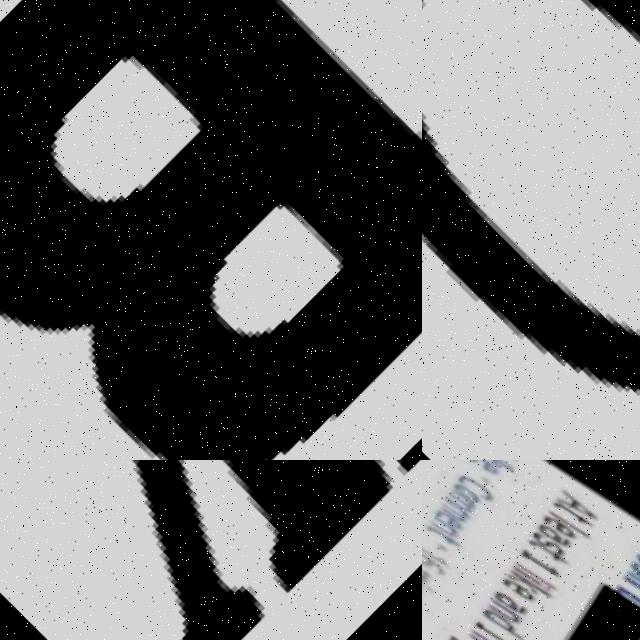0: (422, 0, 640, 460)
1: (516, 543, 565, 592), (422, 537, 453, 579)
6: (422, 543, 449, 588)
W: (0, 460, 422, 640)
